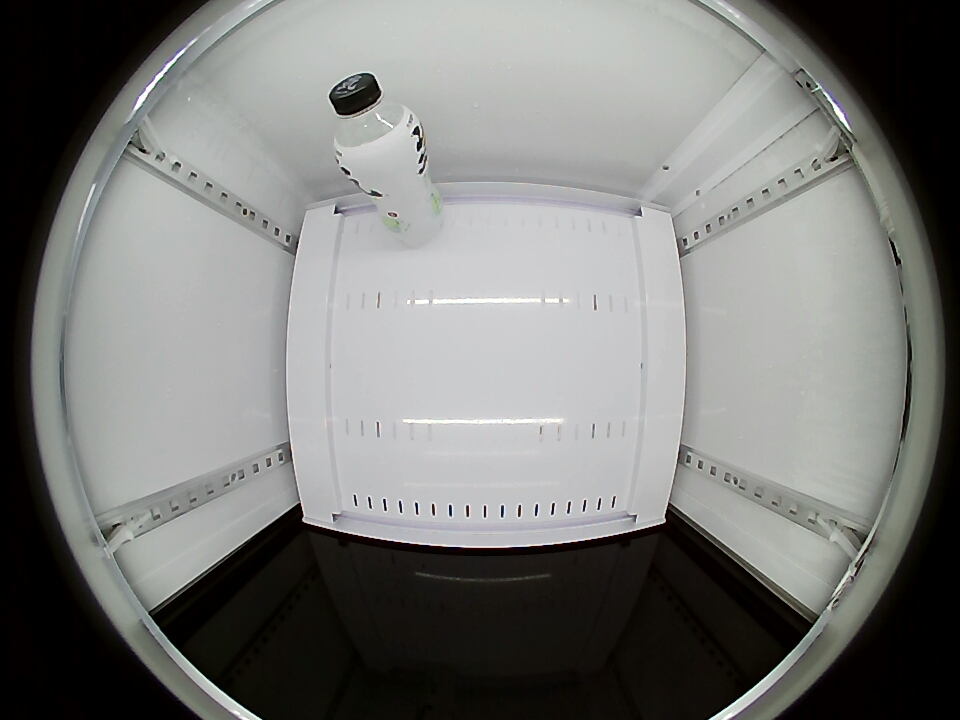yuanqishui: (329, 72, 425, 173)
